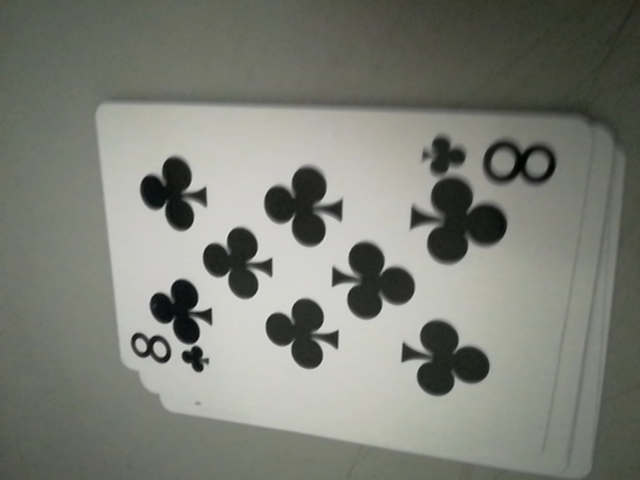mh 8: (420, 128, 560, 187), (124, 329, 208, 380)
